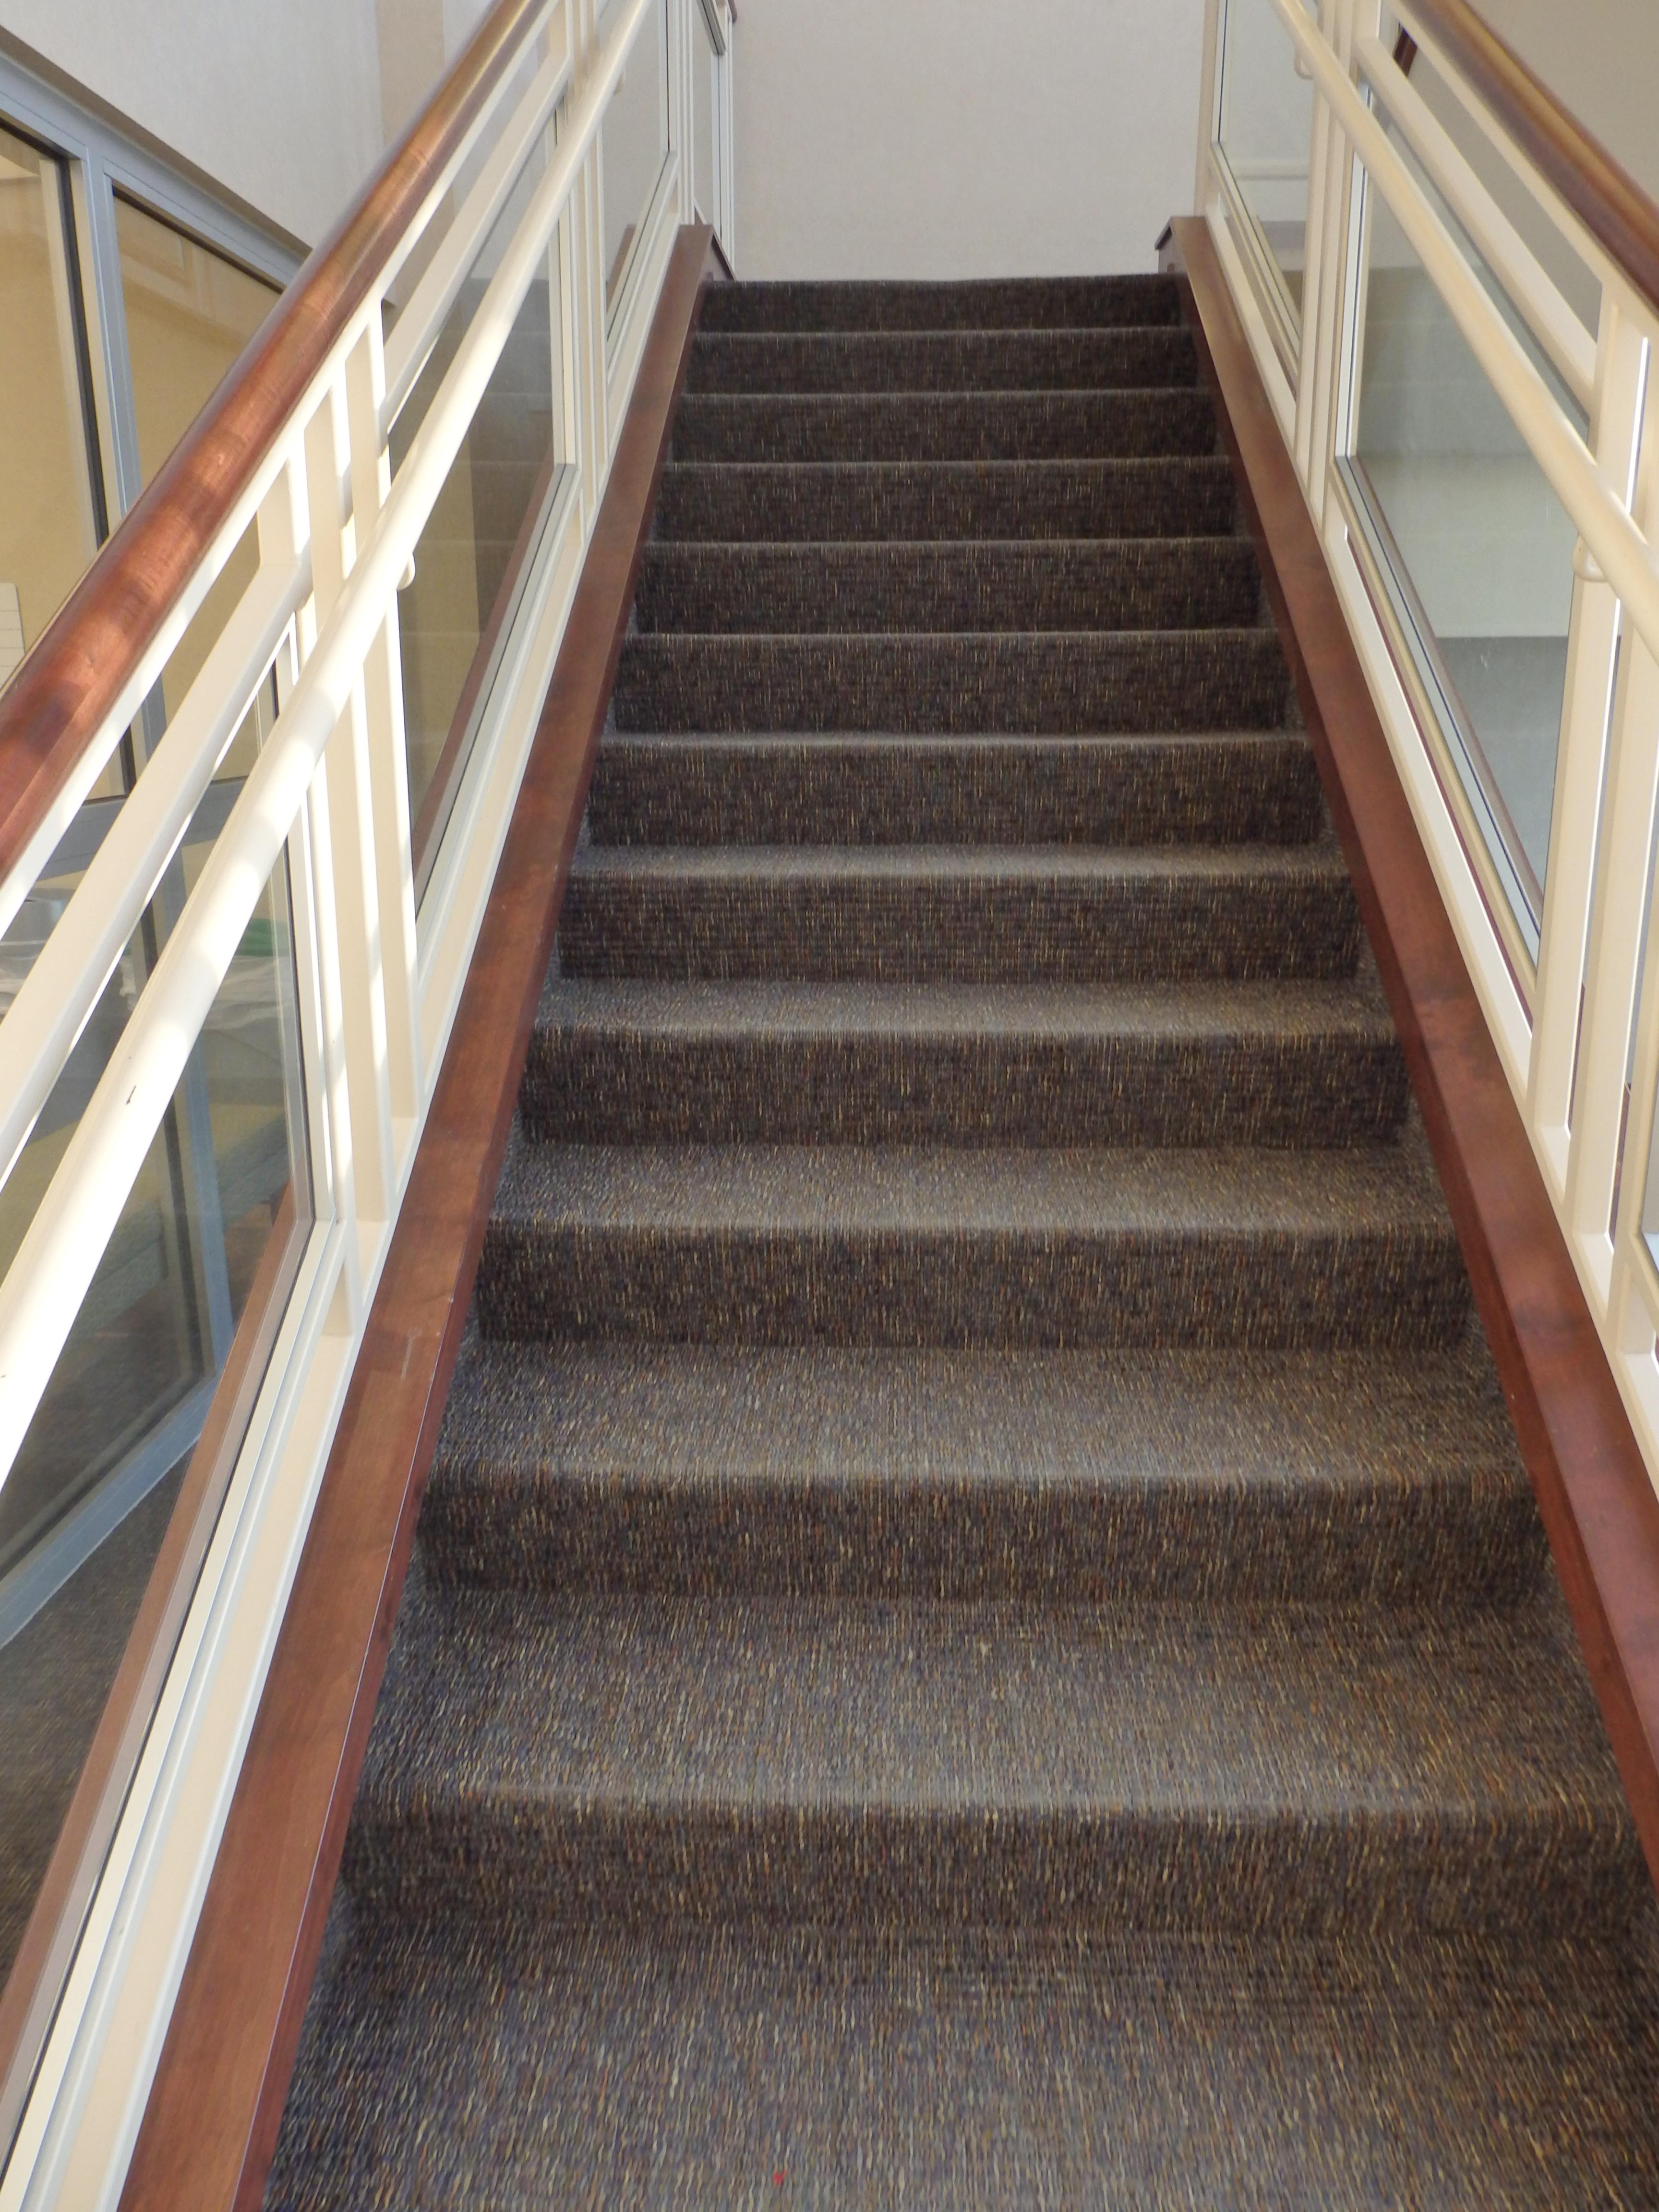stairs_up: (500, 219, 1593, 1968)
